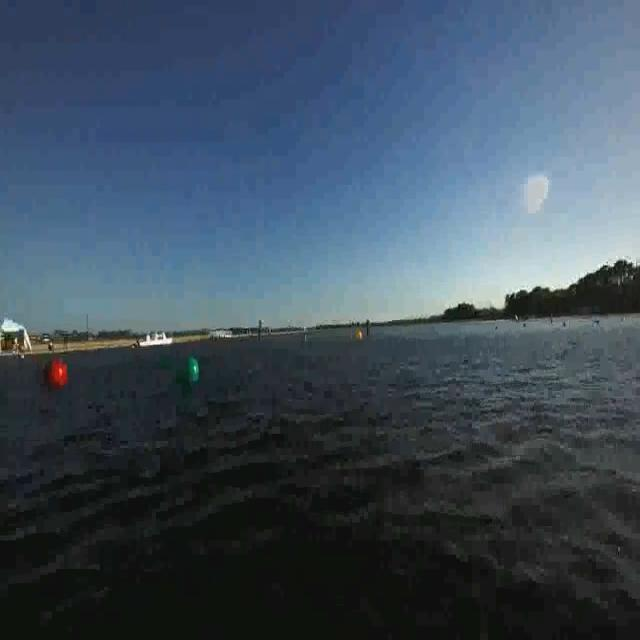green-buoy: (177, 355, 199, 384)
red-buoy: (49, 359, 69, 393)
yellow-buoy: (356, 329, 364, 344)
